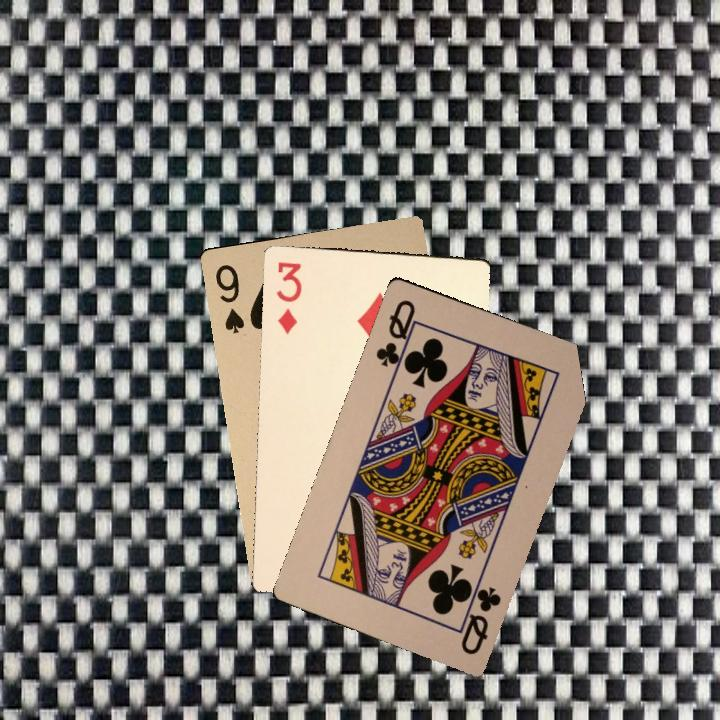3d: (272, 258, 305, 336)
9s: (211, 260, 247, 336)
Qc: (452, 576, 504, 658), (371, 295, 420, 375)
